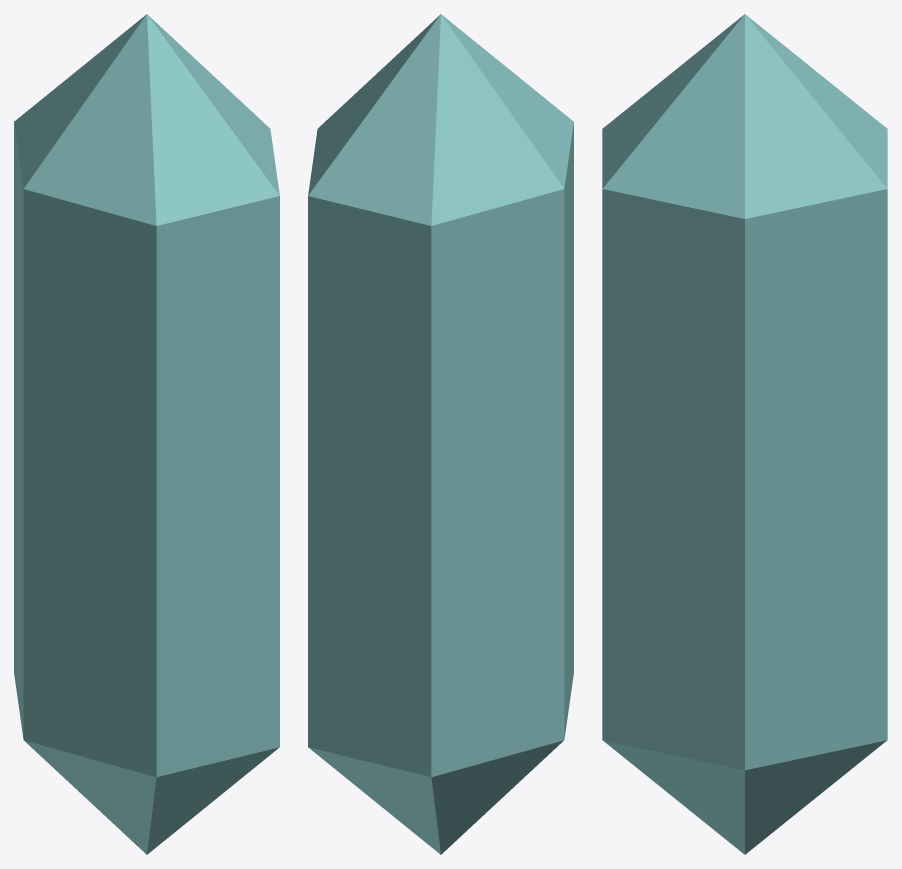
File: CrystalTall.fbx
The picture shows the model from 3 angles, left to right: view 1: azimuth 30°, elevation 25°; view 2: azimuth 150°, elevation 25°; view 3: azimuth 270°, elevation 25°; orthographic projection.
Parts seen in each view (by area): view 1: crystal_1; view 2: crystal_1; view 3: crystal_1.
Part boxes in pixels (left/top/right/bottom): crystal_1: left=14, top=14, right=279, bottom=854; crystal_1: left=308, top=14, right=573, bottom=854; crystal_1: left=602, top=14, right=887, bottom=854.
Bounding box in the file's own units: 800 × 2605 × 800.
